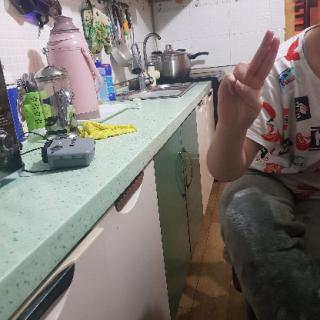TA: (209, 27, 282, 131)
